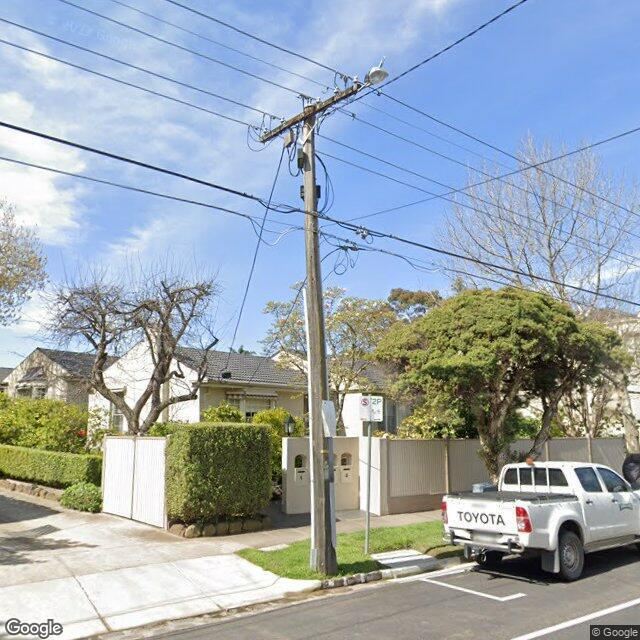crossarm: (261, 83, 361, 141)
streetlight: (358, 68, 390, 92)
timber-pole: (304, 106, 338, 576)
